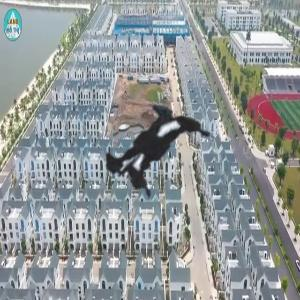drone: (2, 1, 300, 299)
